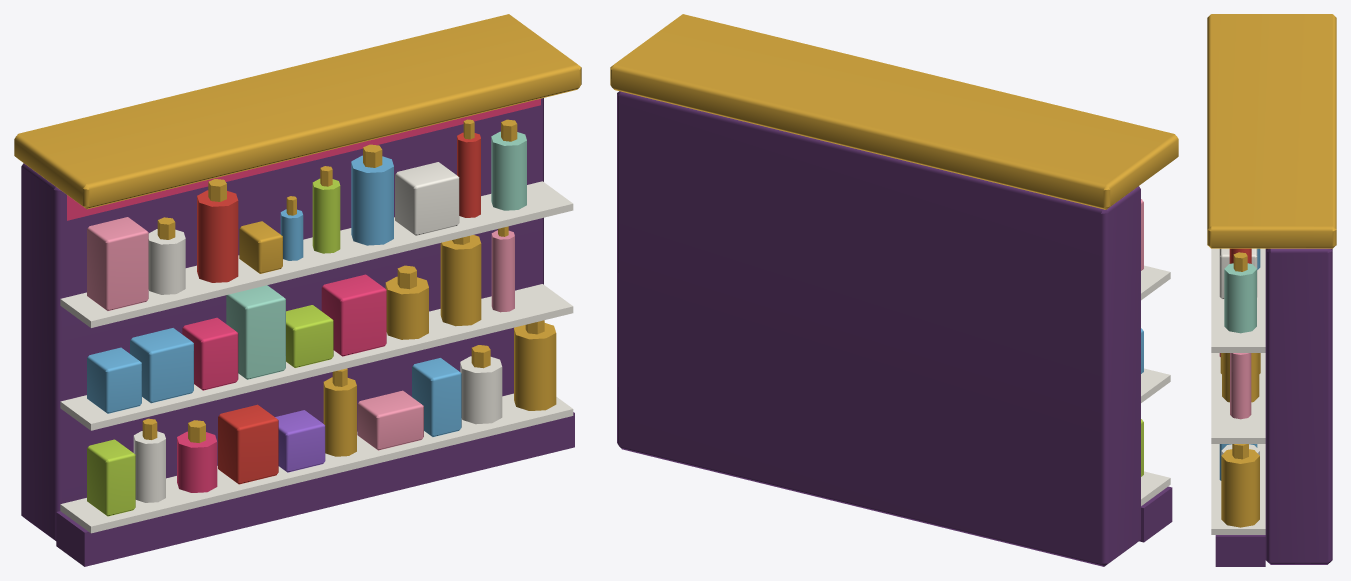
Rendered from EstanteriaTienda.fbx.
3 renders of one model, left to right at view 1: azimuth 30°, elevation 25°; view 2: azimuth 150°, elevation 25°; view 3: azimuth 270°, elevation 25°, orthographic. The views are drawn at different scales.
Visible parts, largest first — view 1: EstanteriaTienda; view 2: EstanteriaTienda; view 3: EstanteriaTienda.
Boxes of the visible parts, x1=… form: EstanteriaTienda: x1=14, y1=14, x2=581, y2=566; EstanteriaTienda: x1=610, y1=14, x2=1178, y2=566; EstanteriaTienda: x1=1207, y1=14, x2=1336, y2=566.
Bounding box in the file's own units: 6.1 × 4.5 × 1.55.
Materials: 1 (1 with a texture image).
